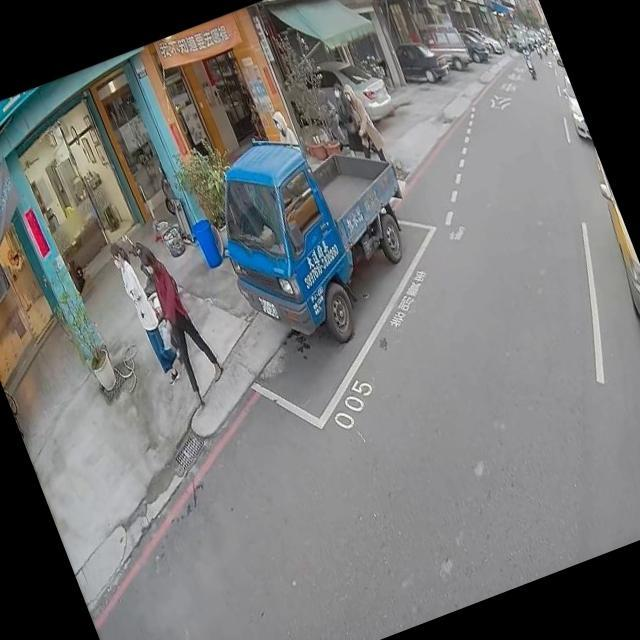person: (122, 228, 235, 414), (109, 240, 191, 396), (335, 76, 396, 177), (325, 79, 370, 158), (266, 101, 304, 160), (519, 43, 530, 58)
